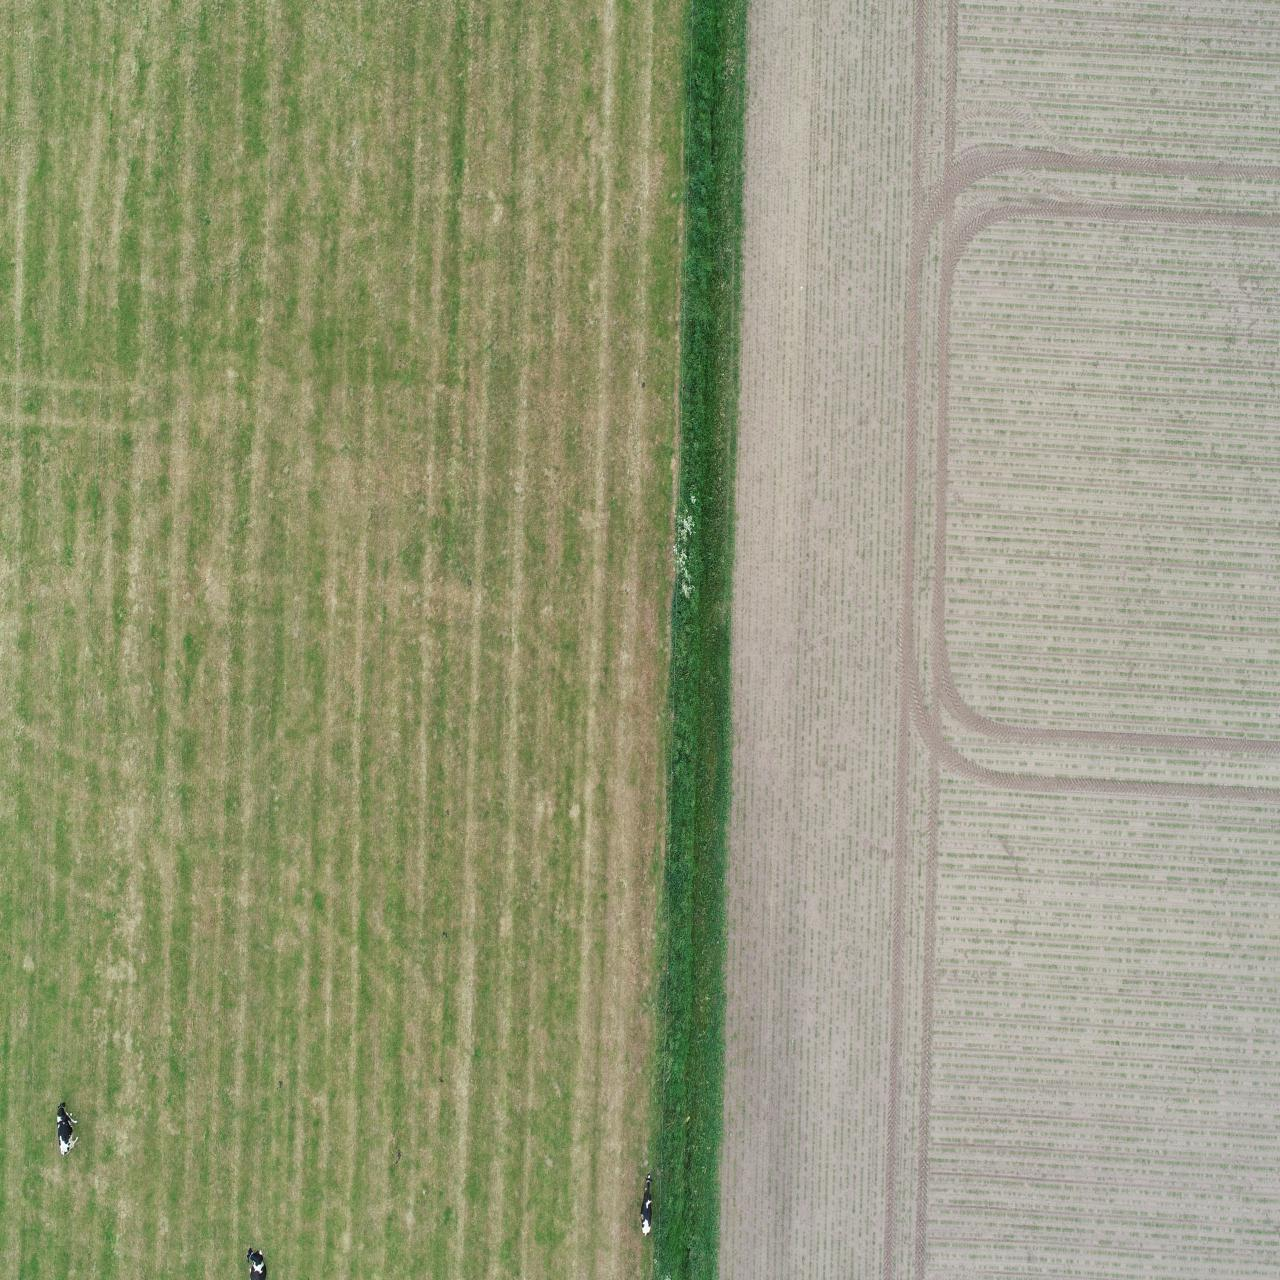cow: (55, 1098, 79, 1157), (636, 1166, 655, 1238), (243, 1240, 270, 1280)
